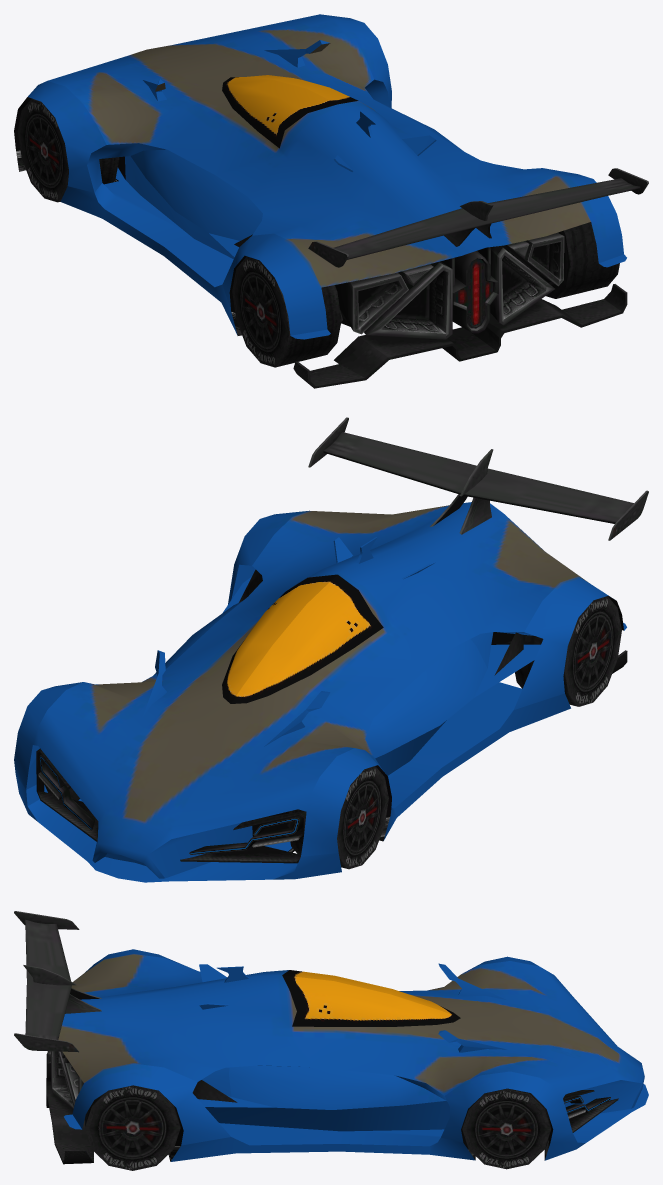
The model's file is car_67.glb.
3 views of the same model, one above another, from view 1: azimuth 30°, elevation 25°; view 2: azimuth 150°, elevation 25°; view 3: azimuth 270°, elevation 25° (orthographic). The views are drawn at different scales.
Visible parts, largest first — view 1: car_67; view 2: car_67; view 3: car_67.
Boxes of the visible parts, left/top/right/bottom form: car_67: left=14, top=14, right=648, bottom=388; car_67: left=14, top=417, right=648, bottom=882; car_67: left=14, top=911, right=648, bottom=1170.
Bounding box in the file's own units: 24.64 × 11.69 × 48.57.
Materials: 9 (9 with a texture image).
